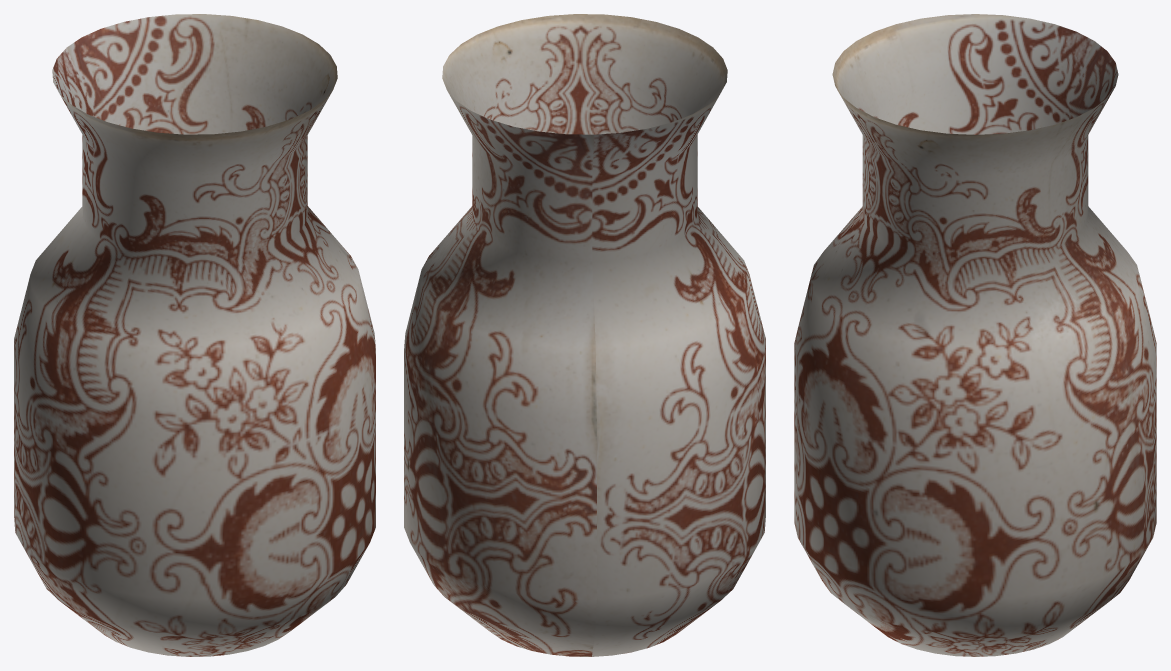
File: Vase.fbx
3 views of the same model, side by side, from view 1: azimuth 30°, elevation 25°; view 2: azimuth 150°, elevation 25°; view 3: azimuth 270°, elevation 25° (orthographic).
Parts seen in each view (by area): view 1: Circle; view 2: Circle; view 3: Circle.
Part boxes in pixels (x1=…): Circle: x1=14, y1=14, x2=375, y2=656; Circle: x1=404, y1=14, x2=765, y2=656; Circle: x1=794, y1=14, x2=1156, y2=656.
Size of the model in its own units: 17.9 by 29.33 by 17.9.
